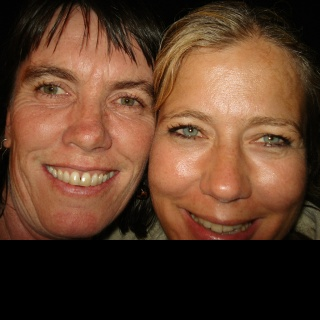without_mask: (0, 0, 165, 240)
